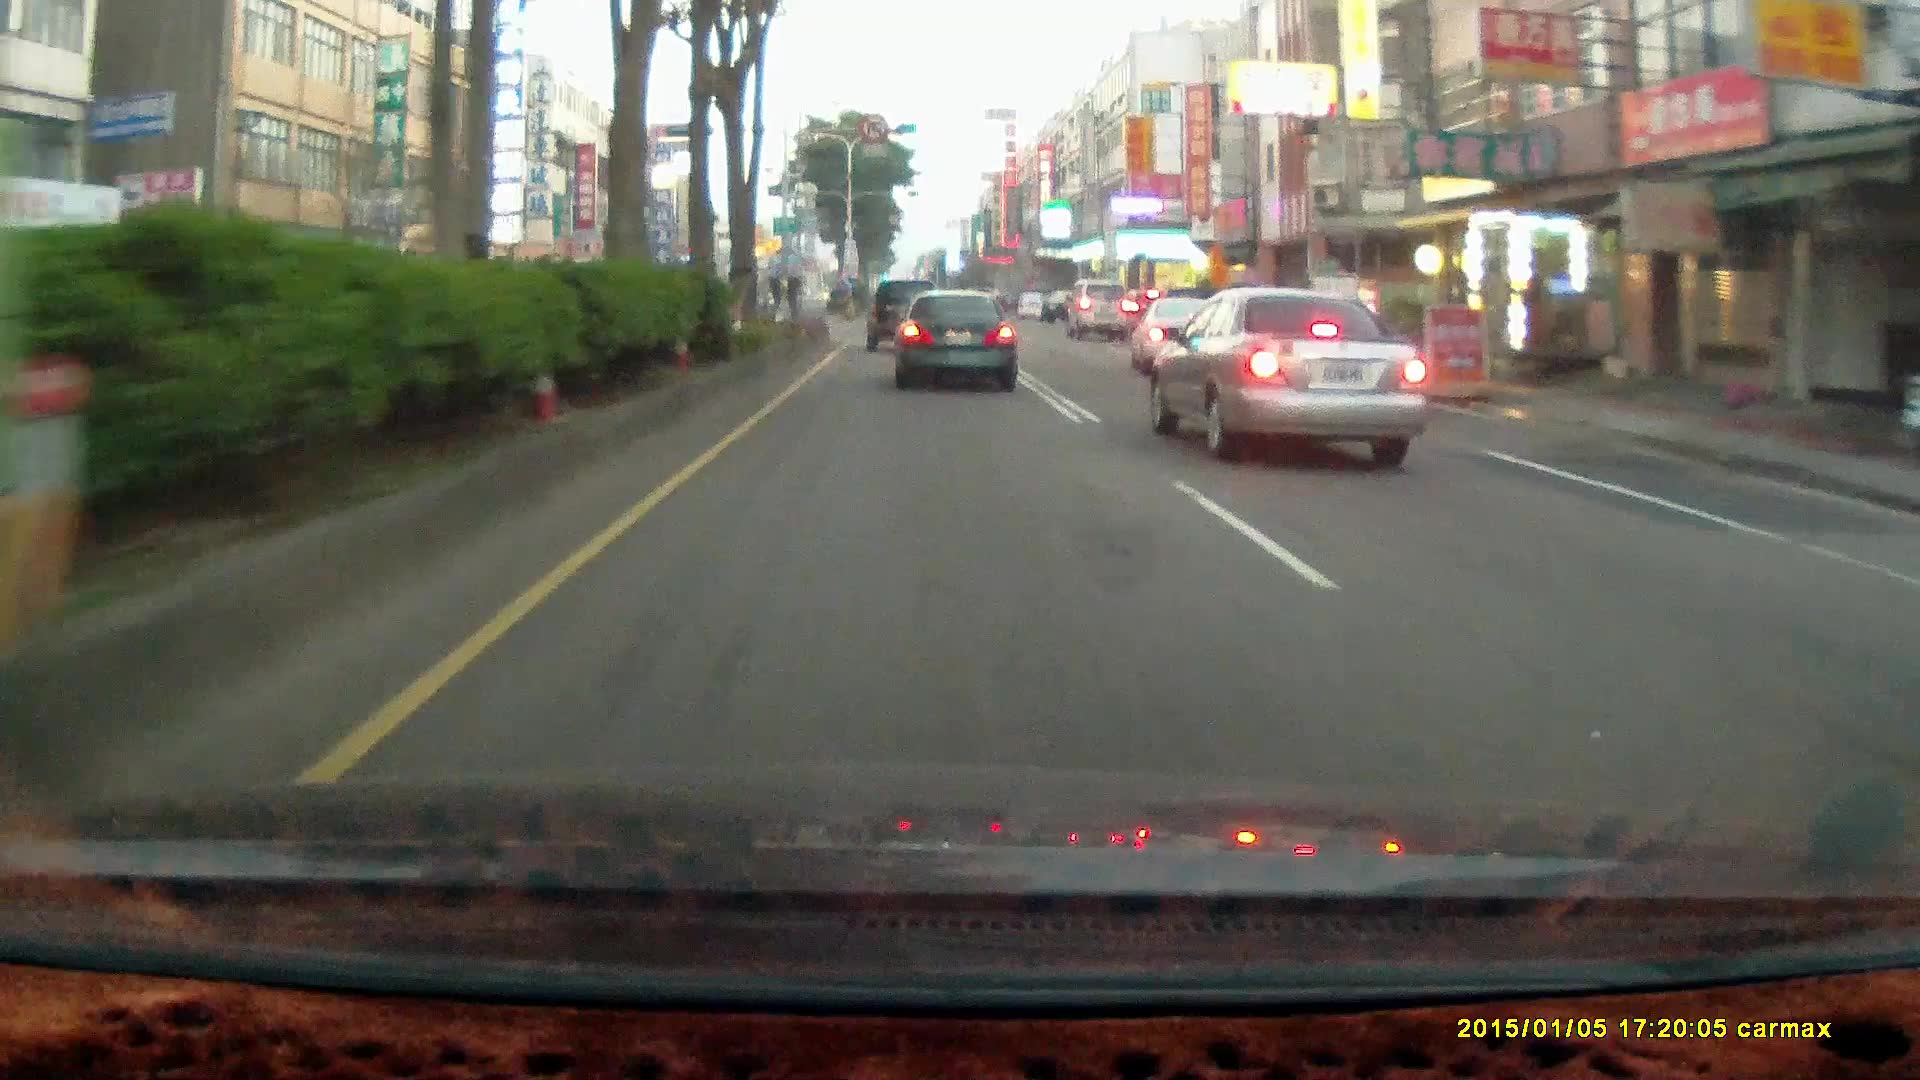vehicle: (1153, 286, 1431, 459), (891, 287, 1021, 398), (894, 289, 1015, 392), (864, 278, 944, 355), (865, 280, 943, 352), (1065, 280, 1135, 343), (1065, 277, 1134, 340), (1040, 287, 1091, 323), (1019, 291, 1043, 316)
